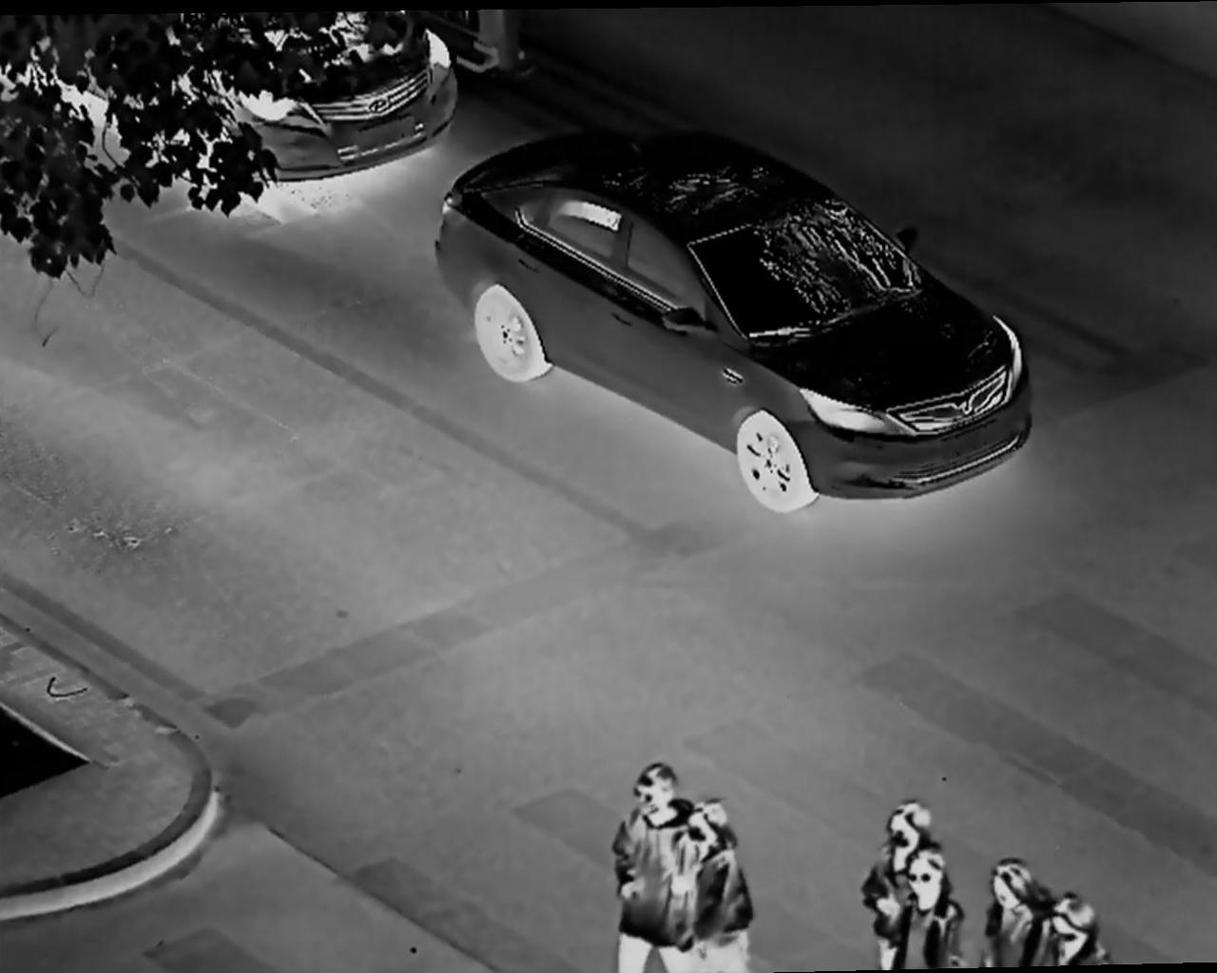person: (611, 754, 686, 973), (681, 796, 751, 973), (876, 799, 918, 973), (985, 854, 1045, 973), (1038, 891, 1104, 973), (907, 862, 953, 973)
